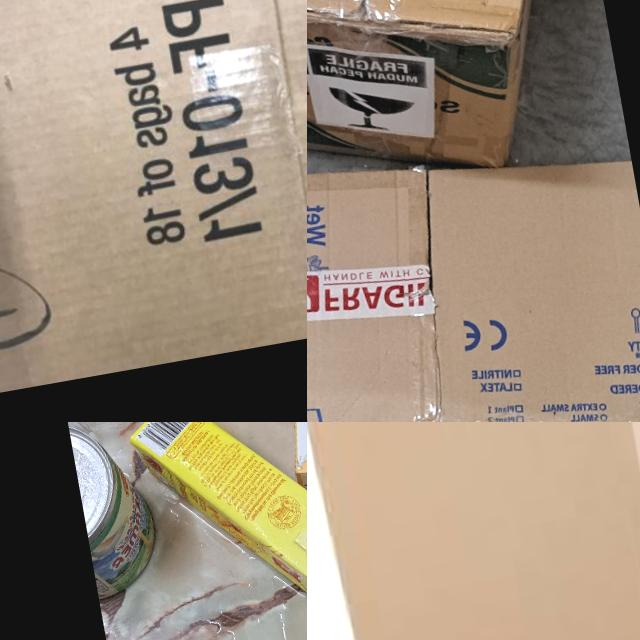caixinha: (123, 422, 307, 603)
garrafa plástica: (307, 422, 640, 640)
lata: (68, 422, 163, 605)
papelão: (0, 0, 307, 410), (307, 91, 640, 422), (307, 0, 589, 210)
